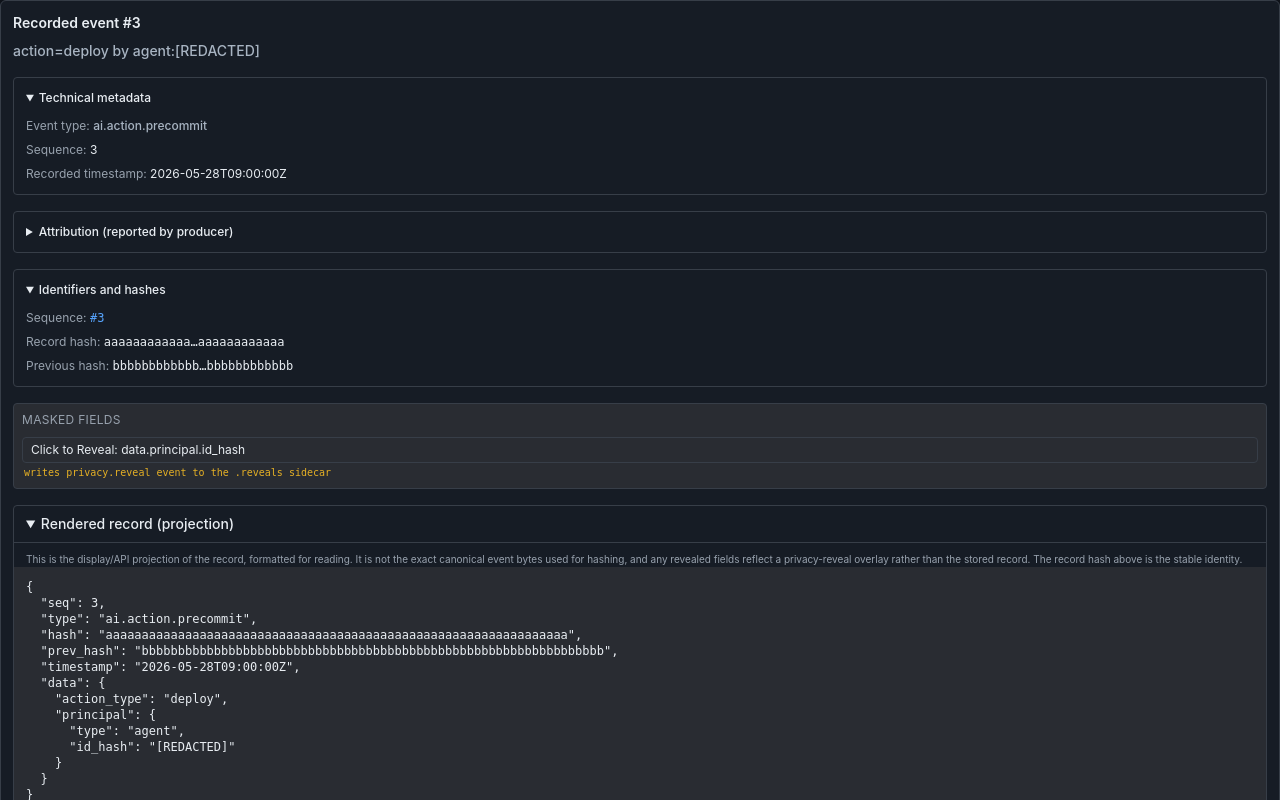
Test: EventInspector › derives attribution from revealed values so adjacent views agree
This screenshot has width=1280, height=800.
Click the button with aria-label "Reveal masked field data.principal.id_hash".
click(138, 450)  # box [22, 437, 1258, 463]
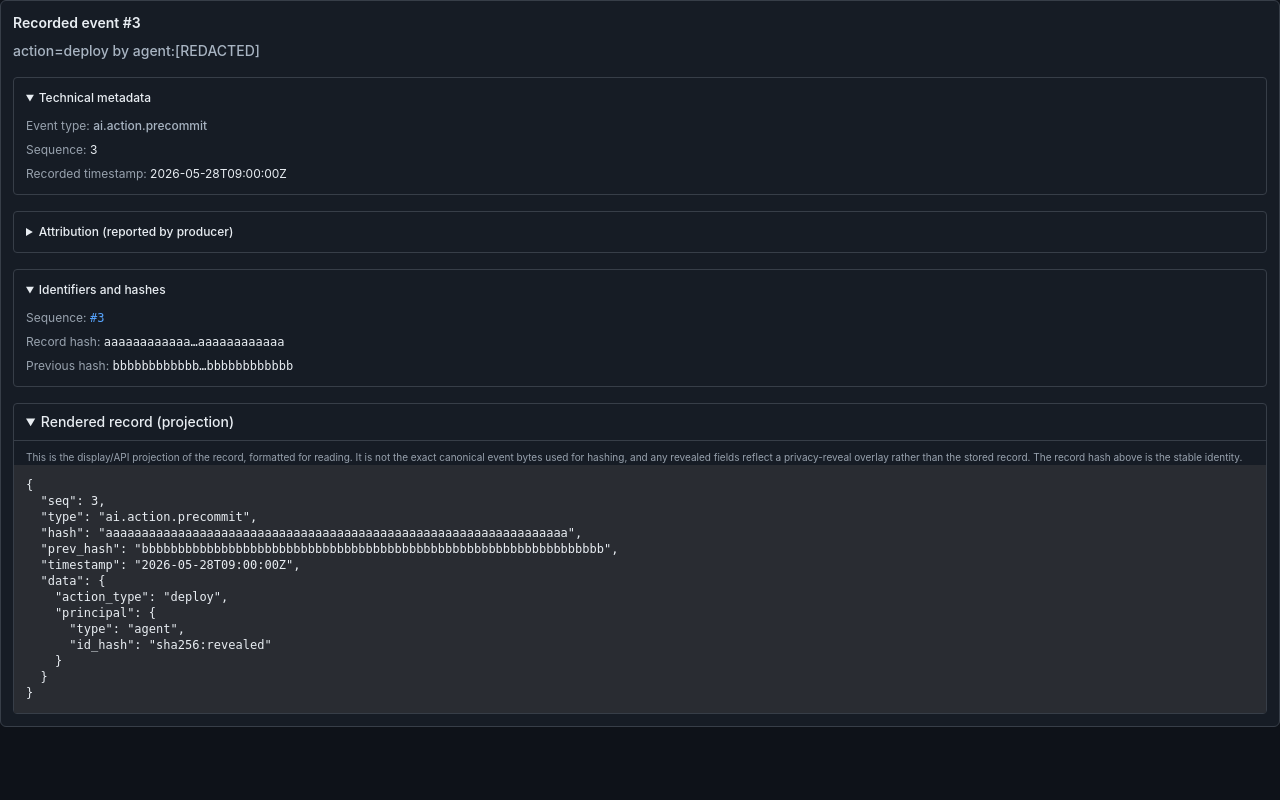
Check: the element with test id "attribution" does not show "[REDACTED]"
Check: the text "sha256:revealed" is shown, box [26, 478, 618, 700]
